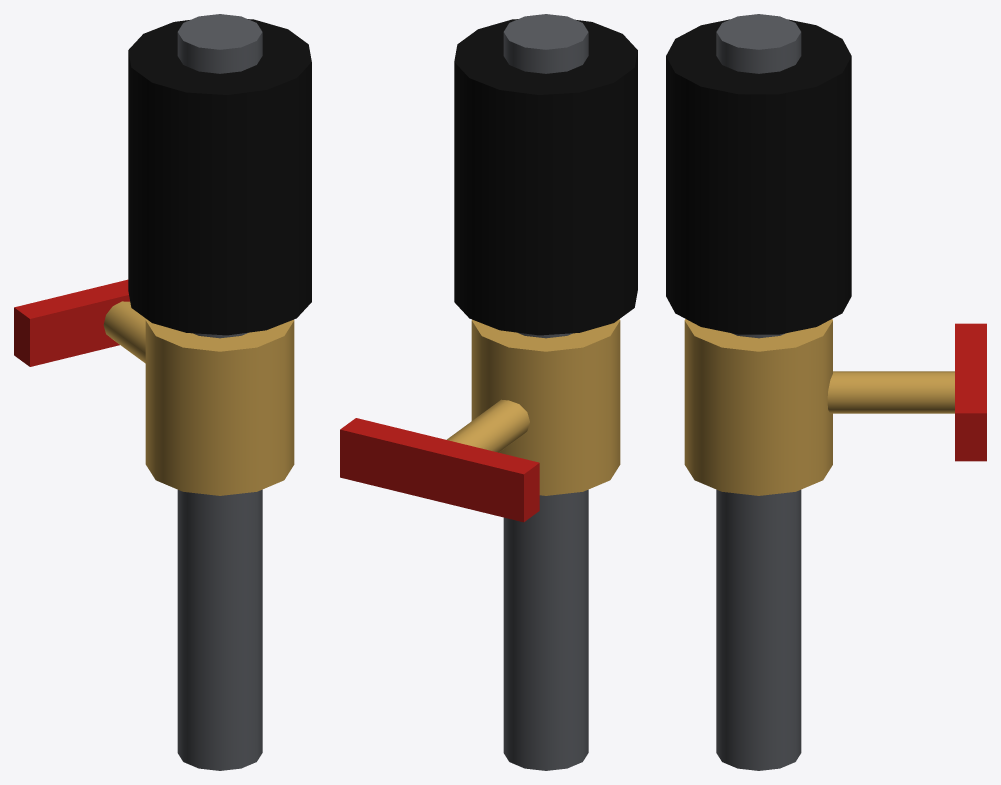
Rendered from fixture.water_main.glb.
The picture shows the model from 3 angles, left to right: view 1: azimuth 30°, elevation 25°; view 2: azimuth 150°, elevation 25°; view 3: azimuth 270°, elevation 25°; orthographic projection.
Visible parts, largest first — view 1: main__plastic_black, main__plastic_grey, main__brass, main__hazard_red; view 2: main__plastic_black, main__plastic_grey, main__brass, main__hazard_red; view 3: main__plastic_black, main__brass, main__plastic_grey, main__hazard_red.
Boxes of the visible parts, x1,y1,x2,y2 form: main__plastic_black: (128, 19, 311, 335); main__plastic_grey: (177, 14, 262, 770); main__brass: (103, 301, 294, 495); main__hazard_red: (14, 279, 129, 366); main__plastic_black: (454, 19, 637, 335); main__plastic_grey: (503, 14, 588, 770); main__brass: (446, 319, 620, 495); main__hazard_red: (340, 418, 539, 522); main__plastic_black: (666, 19, 851, 334); main__brass: (684, 319, 954, 495); main__plastic_grey: (716, 14, 801, 770); main__hazard_red: (955, 323, 986, 461).
Size of the model in its own units: 0.08 by 0.3 by 0.121.
